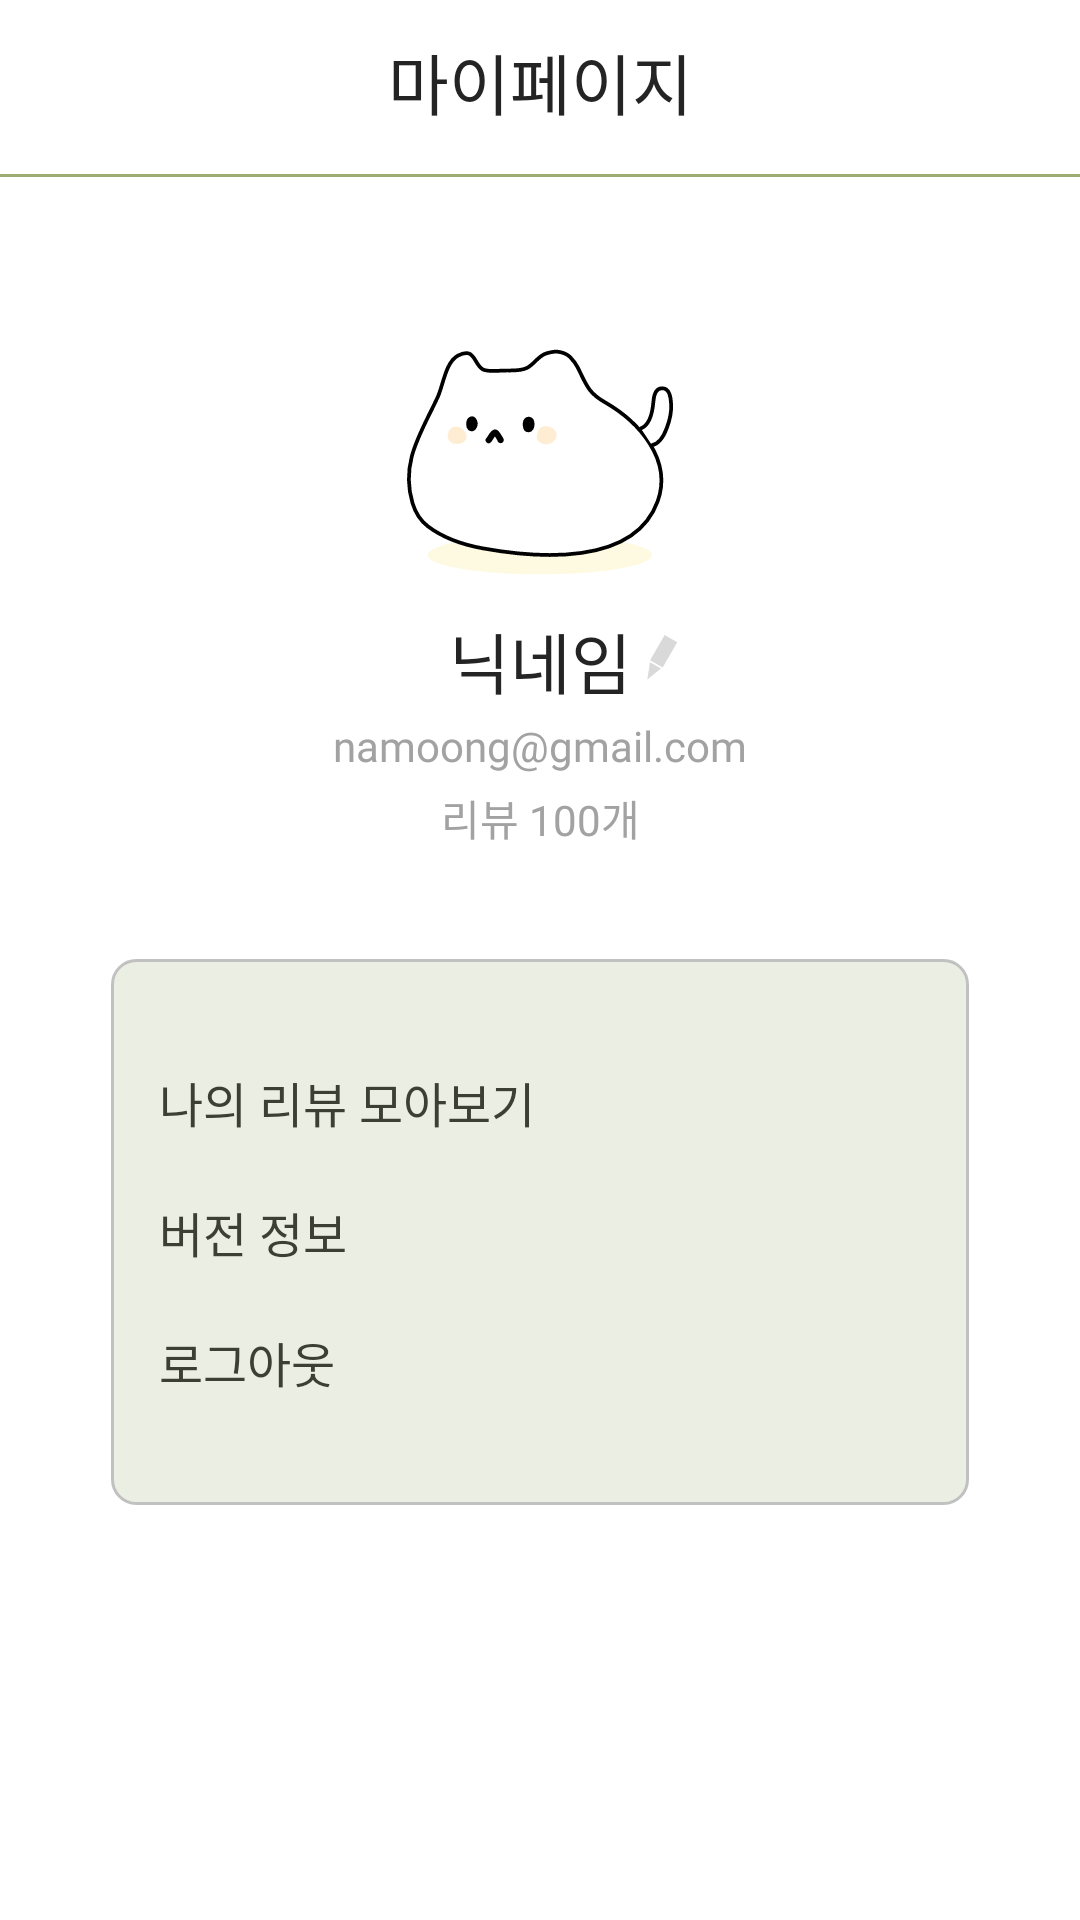

Screen size 1080px x 1920px. Icon name, then its box in pixels as (x1=x1, y1=y1, x2=x2, y2=y2):
pencil: (x1=648, y1=636, x2=677, y2=678)
